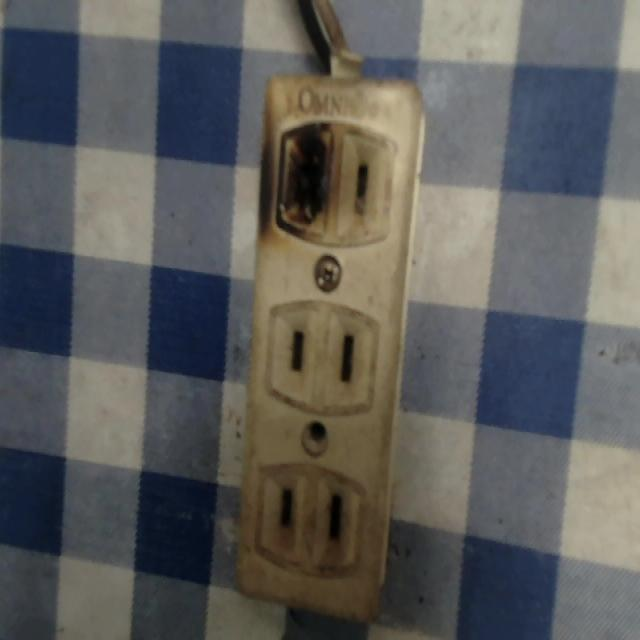-: (262, 111, 339, 240)
